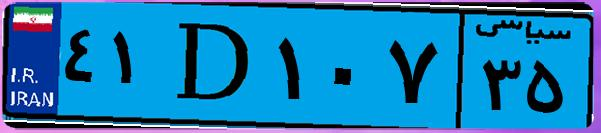0: (330, 28, 385, 110)
1: (270, 28, 330, 110), (110, 28, 158, 98)
3: (475, 38, 525, 113)
4: (57, 26, 110, 100)
5: (525, 38, 570, 115)
7: (385, 28, 445, 110)
D: (158, 12, 270, 120)
